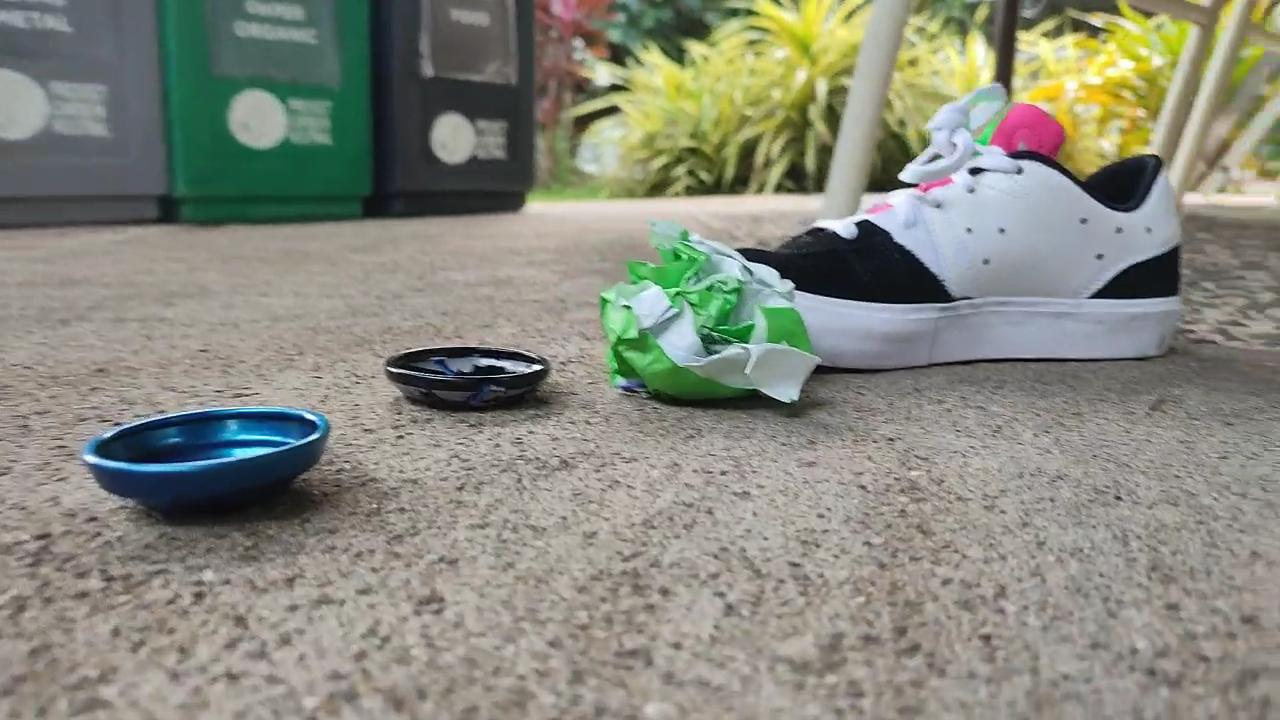Paper: (583, 202, 843, 417)
